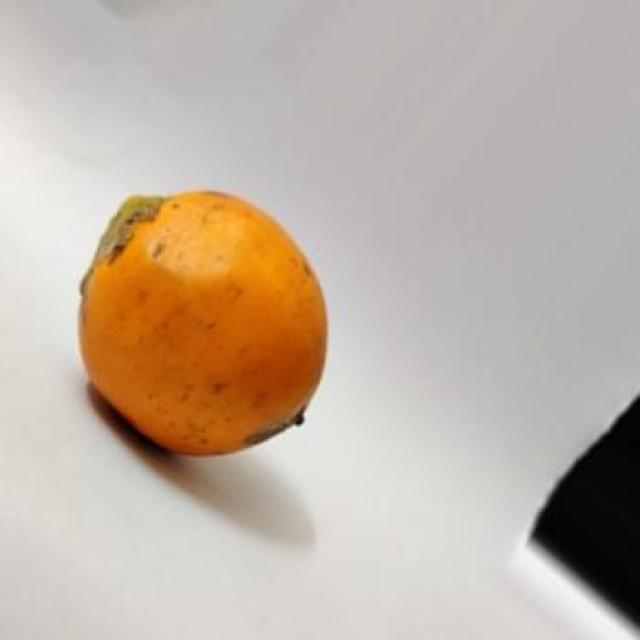good: (77, 190, 327, 459)
